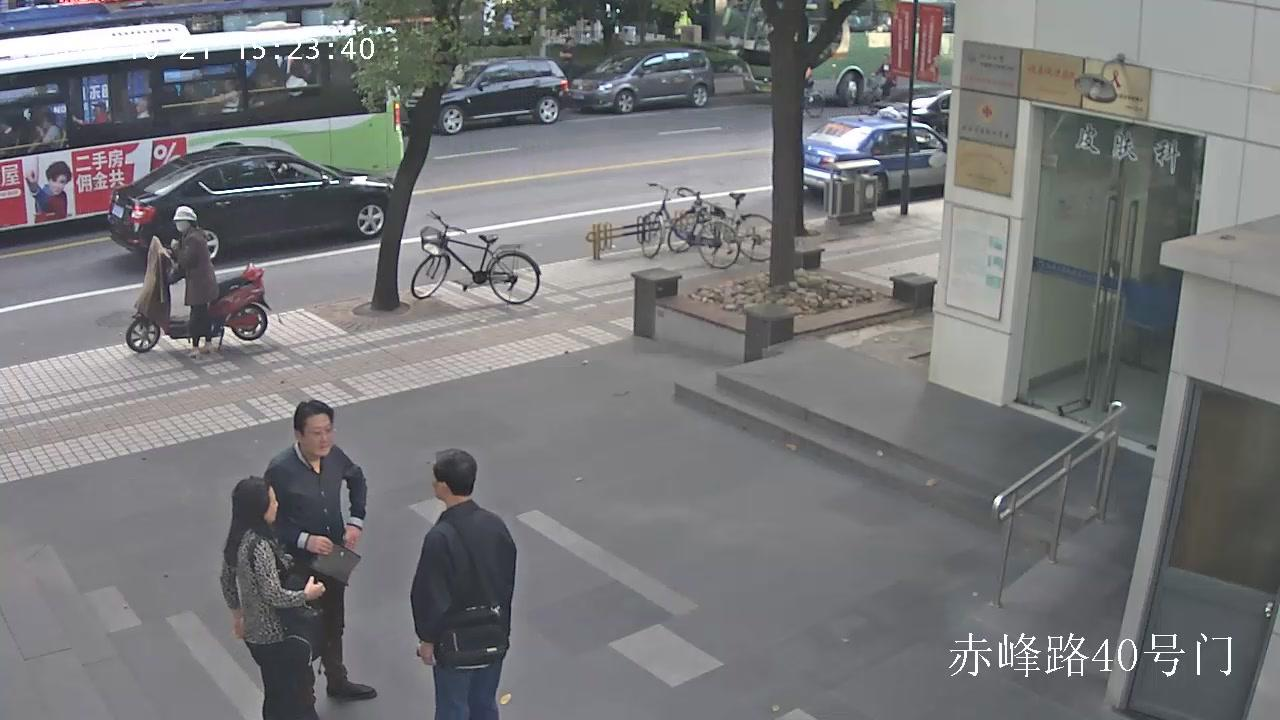person: (264, 400, 376, 699), (411, 449, 517, 720), (220, 477, 326, 719), (126, 205, 271, 359), (168, 205, 218, 358), (26, 156, 71, 221), (858, 51, 904, 114), (802, 63, 824, 119), (33, 109, 60, 152), (872, 52, 897, 98), (211, 75, 242, 112), (286, 61, 312, 95), (801, 63, 814, 105), (503, 7, 519, 33)
